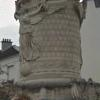Chimney: (2, 35, 14, 52)
